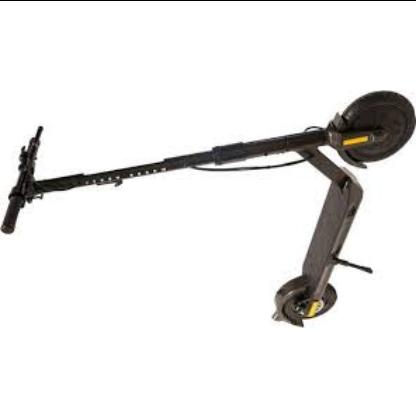bike: (1, 89, 416, 330)
